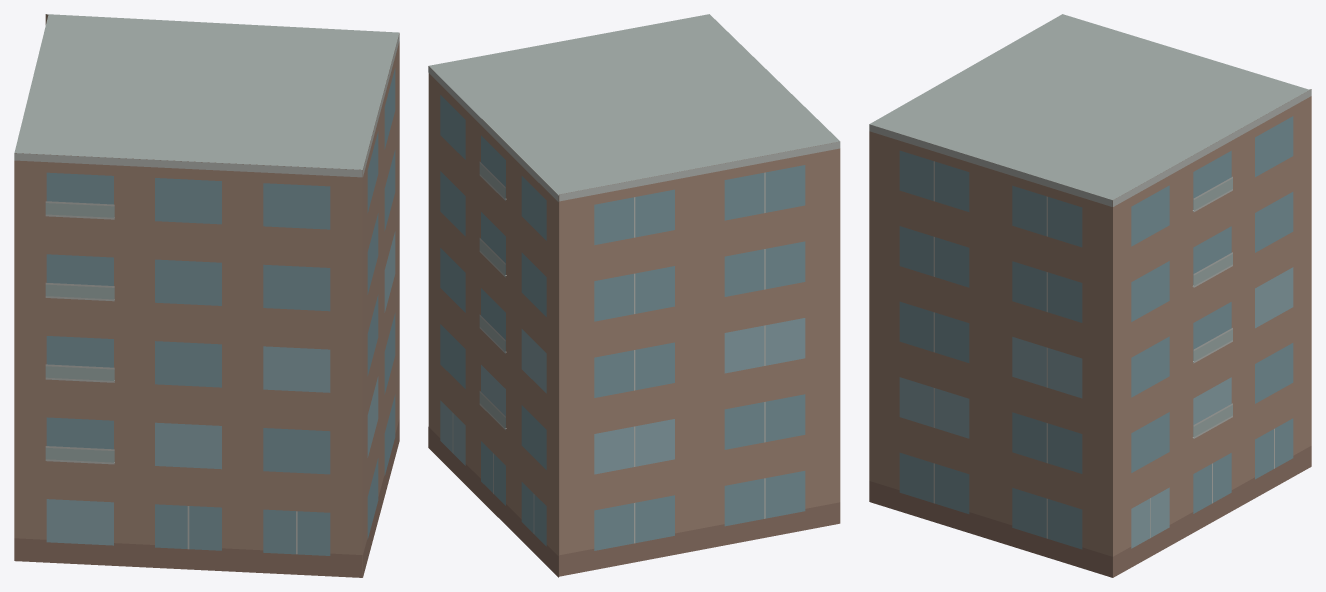
File: survey-upis-32621432.glb
3 views of the same model, side by side, from view 1: azimuth 30°, elevation 25°; view 2: azimuth 150°, elevation 25°; view 3: azimuth 270°, elevation 25° (orthographic). The views are drawn at different scales.
Parts seen in each view (by area): view 1: survey-upis-32621432.tmp; view 2: survey-upis-32621432.tmp; view 3: survey-upis-32621432.tmp.
Boxes of the visible parts, bbox=[...] form: survey-upis-32621432.tmp: bbox=[14, 14, 399, 577]; survey-upis-32621432.tmp: bbox=[428, 14, 840, 577]; survey-upis-32621432.tmp: bbox=[869, 14, 1311, 577].
Size of the model in its own units: 13.97 by 13.2 by 14.02.
